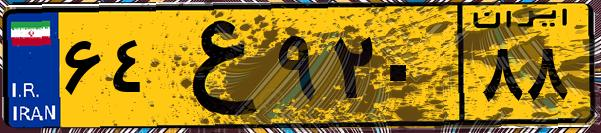0: (385, 28, 445, 110)
2: (330, 28, 385, 110)
4: (110, 28, 158, 98)
6: (57, 26, 110, 100)
8: (475, 38, 525, 113), (525, 38, 570, 115)
9: (270, 28, 330, 110)
ع: (158, 12, 270, 120)
